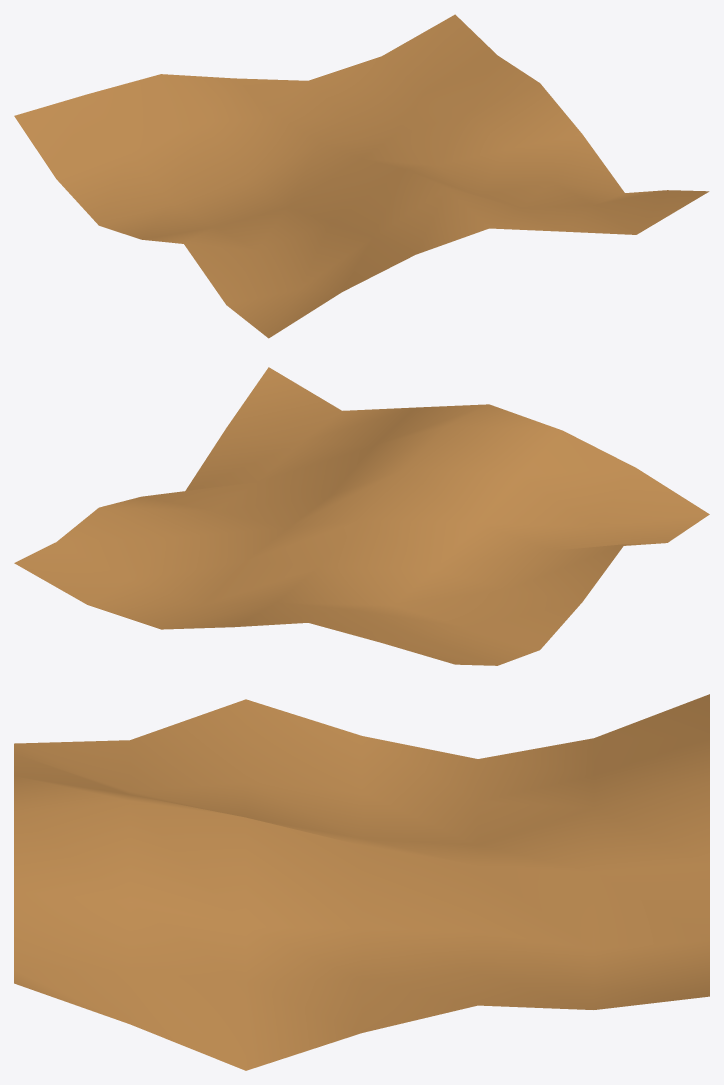
The model's file is garden_bed_dirt.glb.
3 renders of one model, top to bottom at view 1: azimuth 30°, elevation 25°; view 2: azimuth 150°, elevation 25°; view 3: azimuth 270°, elevation 25°, orthographic. The views are drawn at different scales.
Visible parts, largest first — view 1: DirtMound.001; view 2: DirtMound.001; view 3: DirtMound.001.
Boxes of the visible parts, box(x1,y1,x2,y2) form: DirtMound.001: box(14, 14, 709, 338); DirtMound.001: box(14, 367, 709, 665); DirtMound.001: box(14, 694, 709, 1070).
Bounding box in the file's own units: 1.32 × 0.2575 × 1.32.
